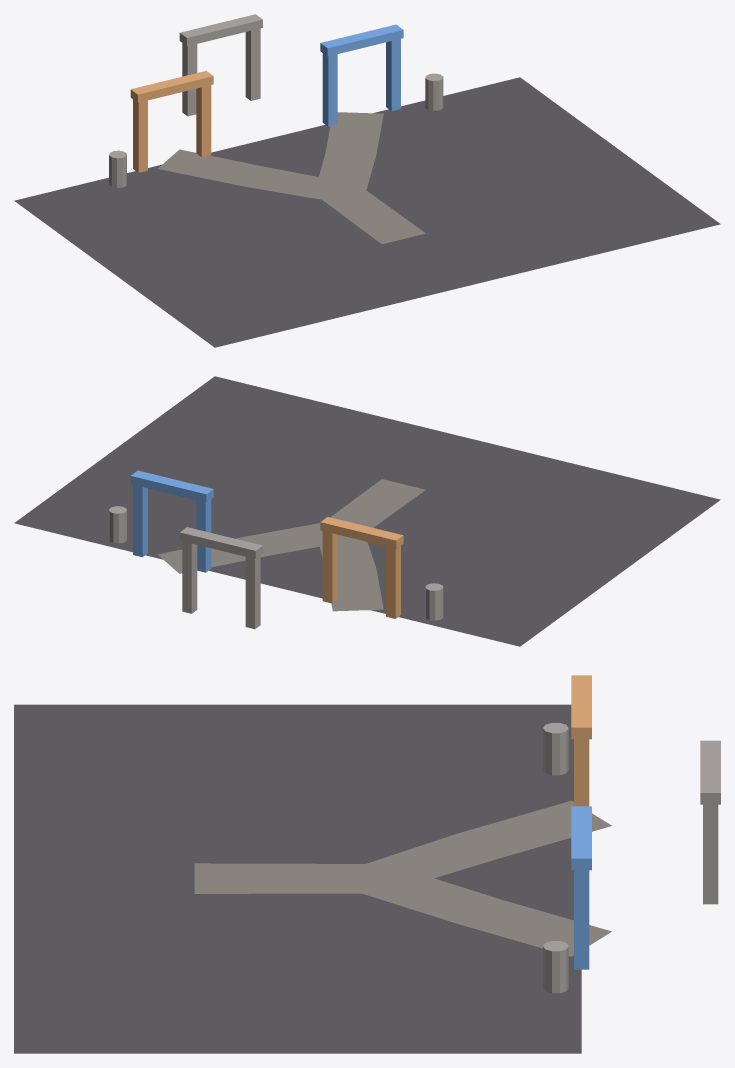
The model's file is threshold.glb.
The picture shows the model from 3 angles, top to bottom: view 1: azimuth 30°, elevation 25°; view 2: azimuth 150°, elevation 25°; view 3: azimuth 270°, elevation 25°; orthographic projection. The views are drawn at different scales.
Visible parts, largest first — view 1: env_threshold_ground, env_threshold_path, env_threshold_right_gate, env_threshold_left_gate, env_threshold_arch, env_threshold_props; view 2: env_threshold_ground, env_threshold_path, env_threshold_arch, env_threshold_left_gate, env_threshold_right_gate, env_threshold_props; view 3: env_threshold_ground, env_threshold_path, env_threshold_arch, env_threshold_right_gate, env_threshold_props, env_threshold_left_gate.
Boxes of the visible parts, x1,y1,x2,y2 form: env_threshold_ground: (14, 77, 720, 347); env_threshold_path: (157, 112, 425, 244); env_threshold_right_gate: (320, 24, 403, 126); env_threshold_left_gate: (130, 71, 213, 172); env_threshold_arch: (179, 14, 262, 116); env_threshold_props: (109, 73, 443, 187); env_threshold_ground: (14, 376, 720, 646); env_threshold_path: (157, 479, 425, 611); env_threshold_arch: (179, 527, 262, 629); env_threshold_left_gate: (320, 517, 403, 618); env_threshold_right_gate: (130, 470, 213, 572); env_threshold_props: (109, 506, 443, 620); env_threshold_ground: (14, 704, 581, 1053); env_threshold_path: (194, 800, 611, 956); env_threshold_arch: (700, 740, 720, 904); env_threshold_right_gate: (571, 806, 591, 969); env_threshold_props: (543, 723, 568, 993); env_threshold_left_gate: (571, 675, 591, 806).
Size of the model in its own units: 16 by 2.4 by 13.7.
